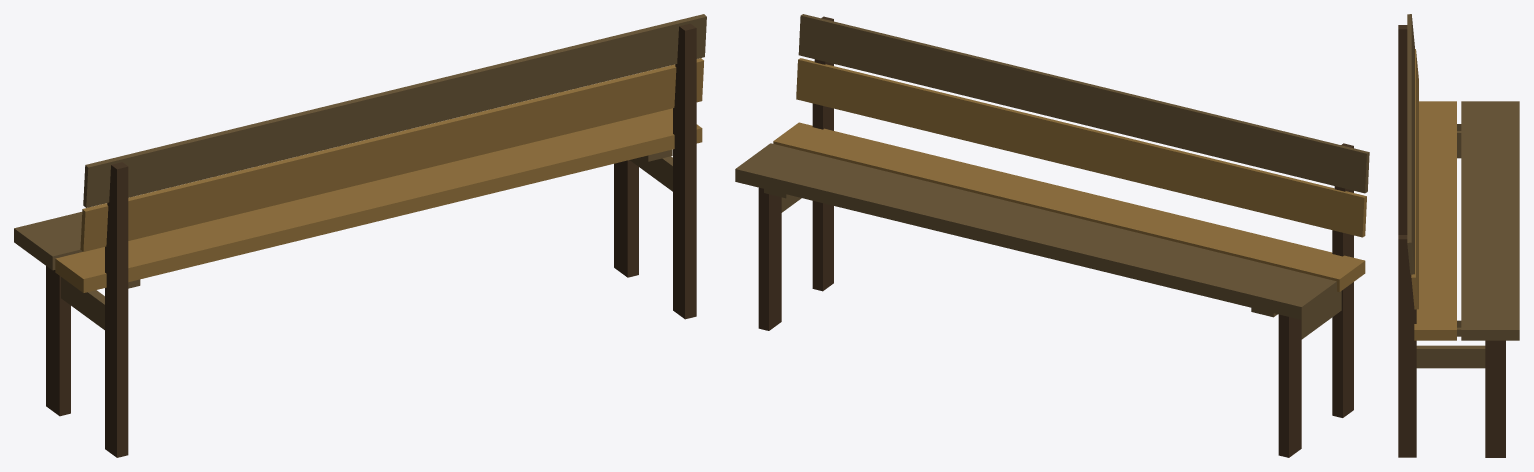
The model's file is bench.fbx.
3 views of the same model, side by side, from view 1: azimuth 30°, elevation 25°; view 2: azimuth 150°, elevation 25°; view 3: azimuth 270°, elevation 25° (orthographic). The views are drawn at different scales.
Visible parts, largest first — view 1: bench; view 2: bench; view 3: bench.
Boxes of the visible parts, bbox=[...] form: bench: bbox=[14, 14, 706, 457]; bench: bbox=[735, 14, 1369, 457]; bench: bbox=[1398, 14, 1519, 457].
Bounding box in the file's own units: 80.58 × 36.4 × 18.07.
